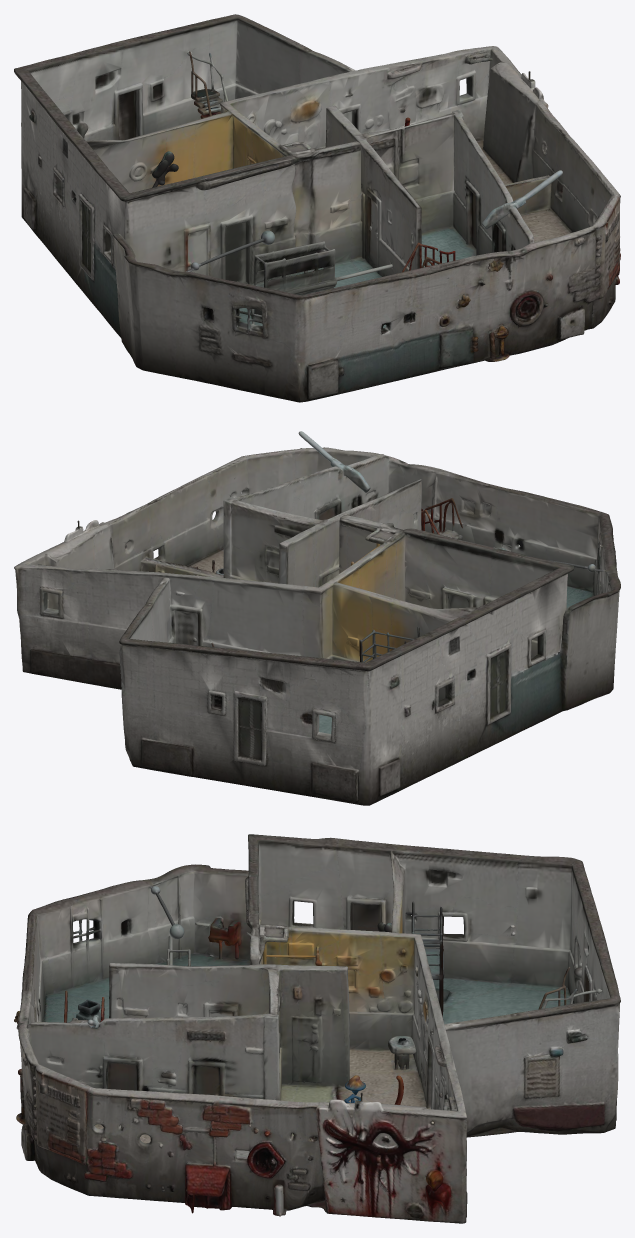
The picture shows the model from 3 angles, top to bottom: view 1: azimuth 30°, elevation 25°; view 2: azimuth 150°, elevation 25°; view 3: azimuth 270°, elevation 25°; orthographic projection. The views are drawn at different scales.
Visible parts, largest first — view 1: tripo_node_765aedc0-06f7-4ed2-8529-24ca4fbdcd67; view 2: tripo_node_765aedc0-06f7-4ed2-8529-24ca4fbdcd67; view 3: tripo_node_765aedc0-06f7-4ed2-8529-24ca4fbdcd67.
Boxes of the visible parts, x1,y1,x2,y2 form: tripo_node_765aedc0-06f7-4ed2-8529-24ca4fbdcd67: (14,14,620,402); tripo_node_765aedc0-06f7-4ed2-8529-24ca4fbdcd67: (14,431,620,805); tripo_node_765aedc0-06f7-4ed2-8529-24ca4fbdcd67: (14,834,620,1223).
Size of the model in its own units: 0.9894 by 0.2869 by 0.9999.
1 material, 1 textured.
